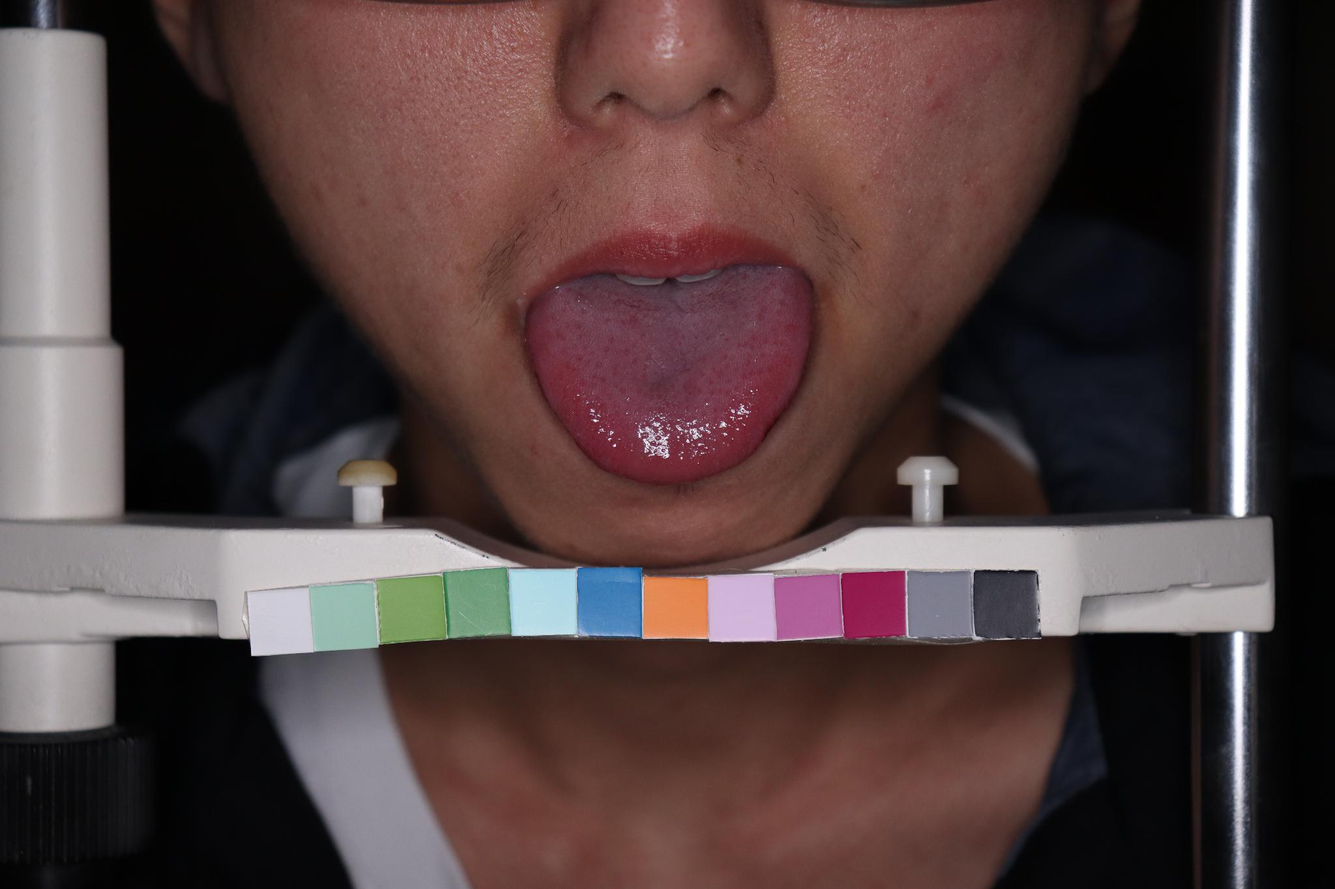baitaishe: (527, 264, 812, 483)
huataishe: (590, 404, 748, 464)
zishe: (527, 264, 812, 483)
